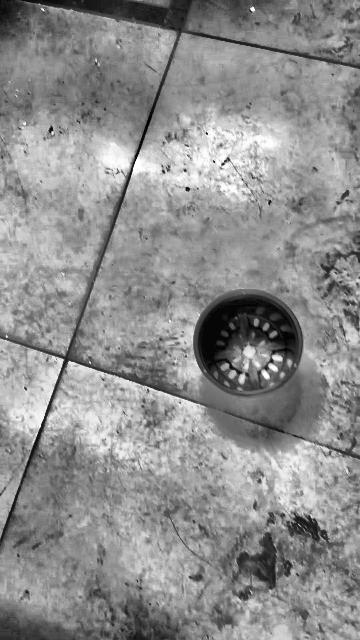pot: (194, 292, 303, 395)
